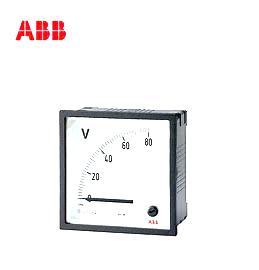pointer: (64, 116, 170, 230)
